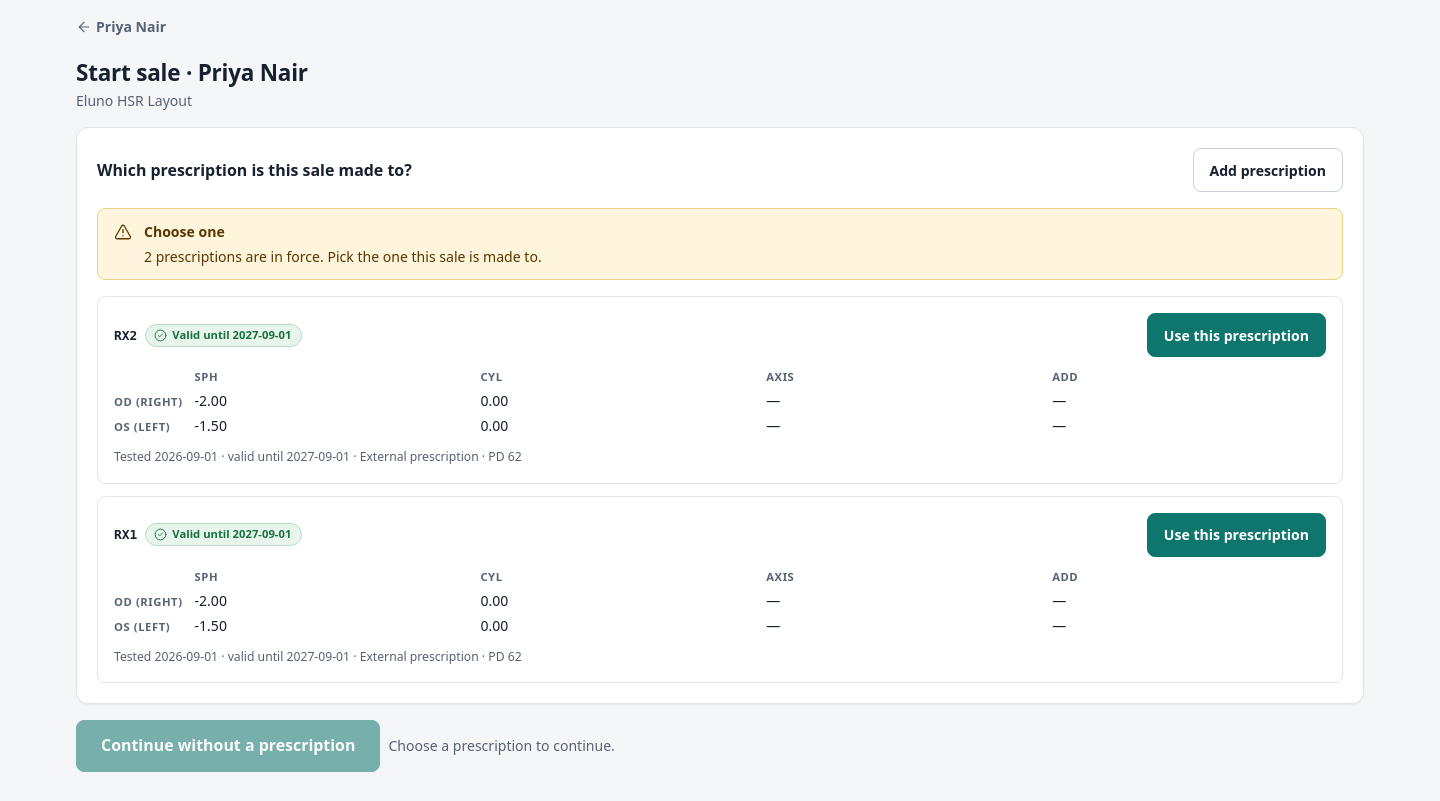
Test: start sale › a server refusal to select shows its message and keeps the cart
Expected: the text "Choose one" is shown, [144, 222, 225, 241]
Click the radio button labelled "Use this prescription" in the row of "RX2" at (1236, 335), box [1147, 313, 1326, 357]
(page scrolled)
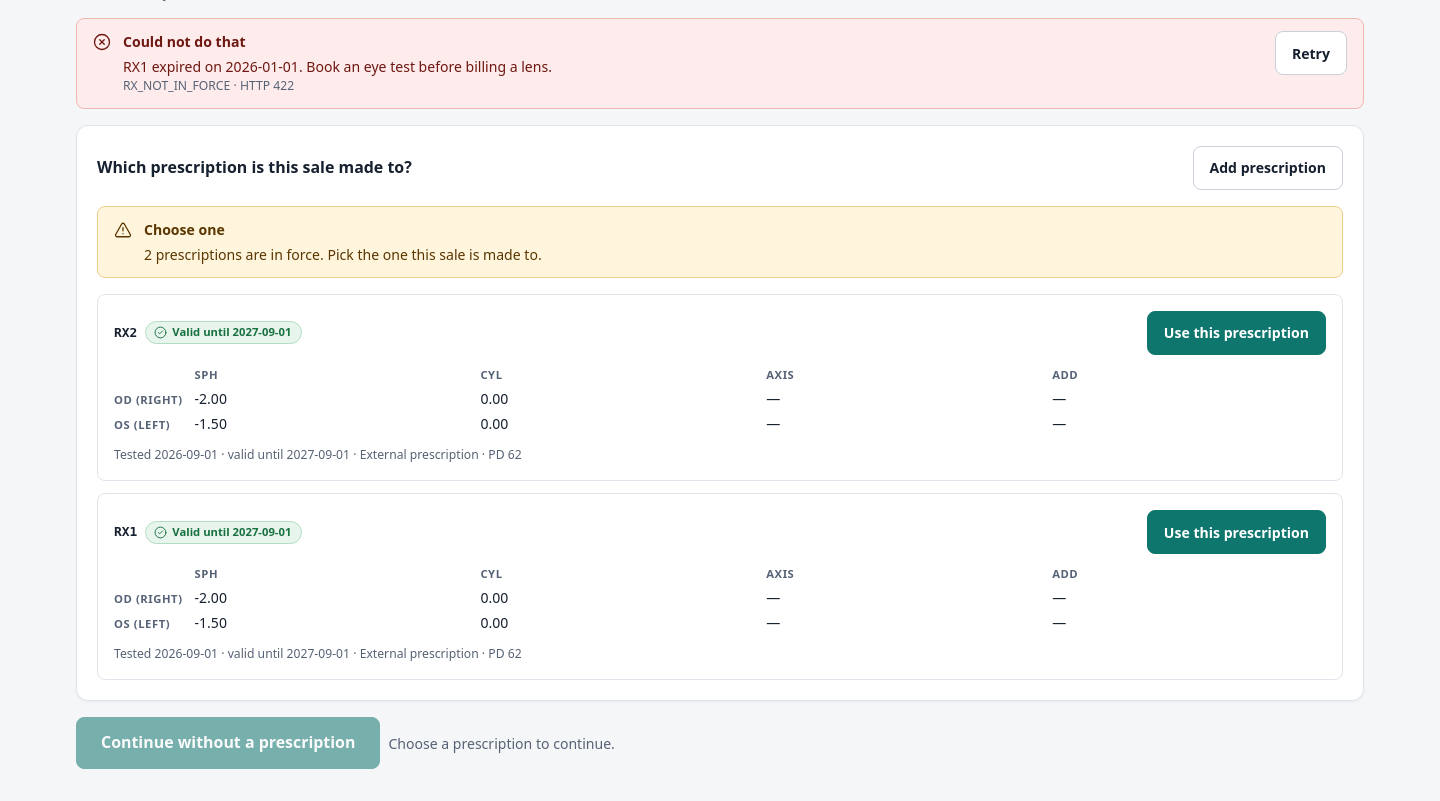
Expected: the button "Continue without a prescription" is disabled, [76, 717, 380, 769]
Now the text "RX1 expired on 2026-01-01" is shown, box [123, 57, 552, 76]
